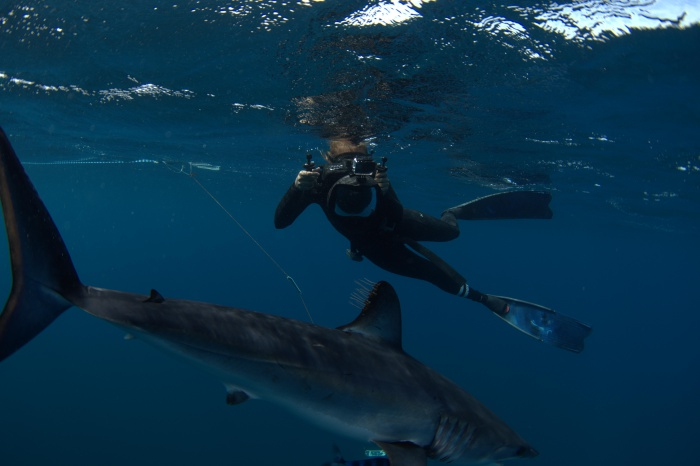Mako: (1, 121, 555, 466)
